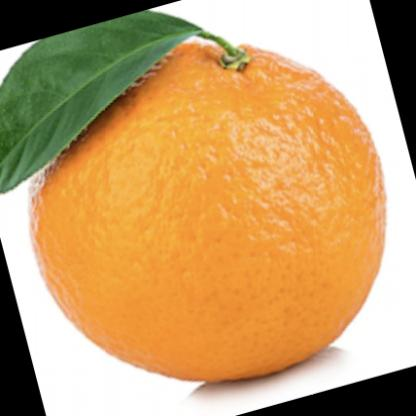orange: (17, 34, 390, 388)
